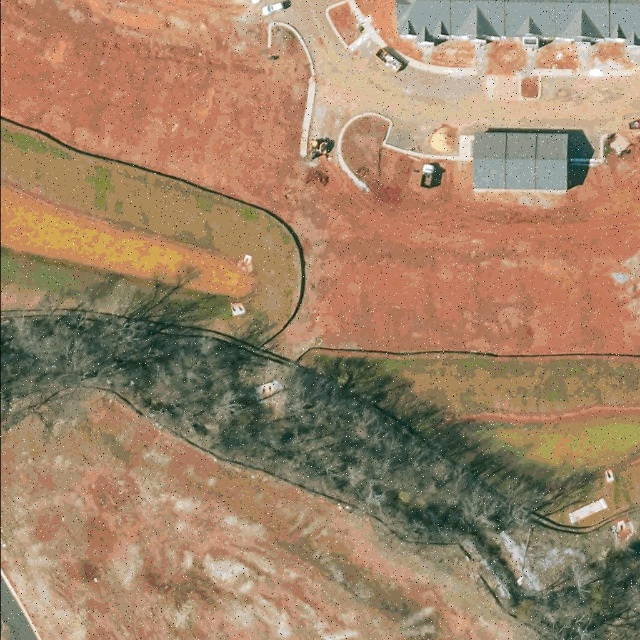vegetation: (0, 315, 640, 640)
